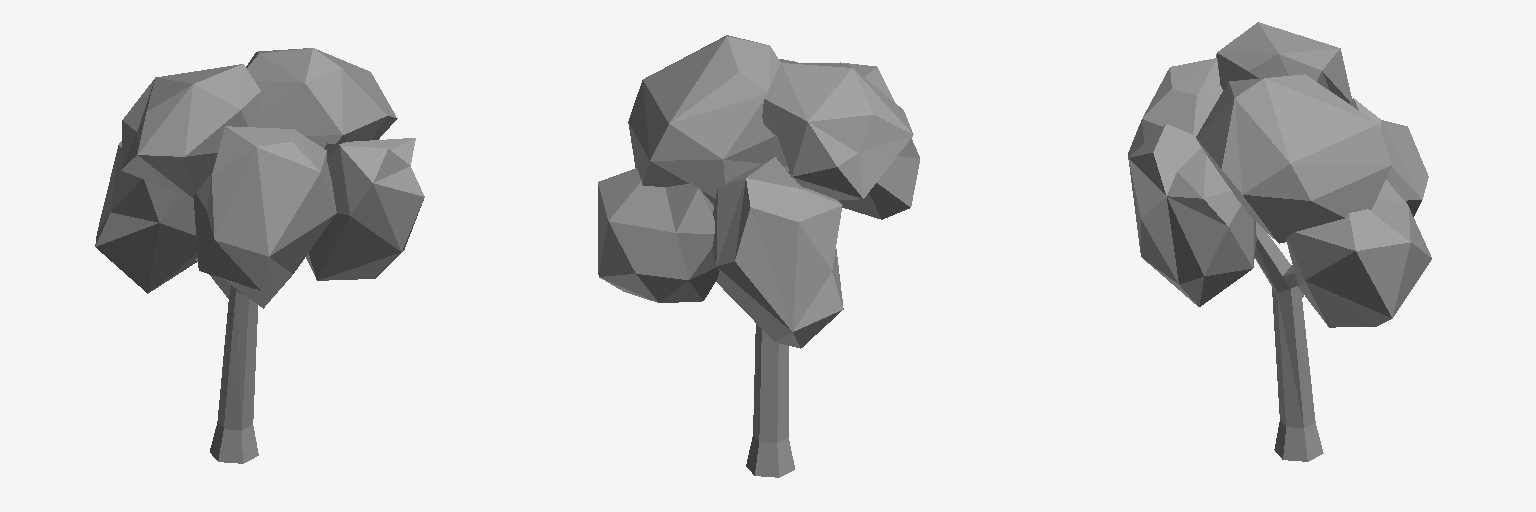
Rendered from tree18.obj.
The picture shows the model from 3 angles: view 1: azimuth 30°, elevation 25°; view 2: azimuth 150°, elevation 25°; view 3: azimuth 270°, elevation 25°; orthographic projection.
Size of the model in its own units: 2.32 by 3.39 by 2.32.